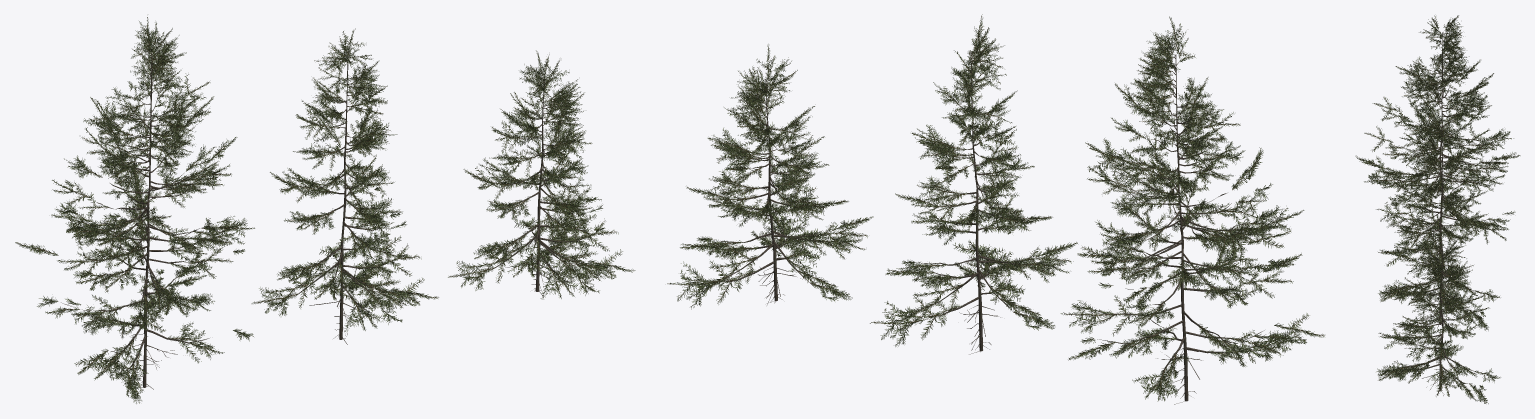
Rendered from fir_sapling_medium.glb.
The picture shows the model from 3 angles, left to right: view 1: azimuth 30°, elevation 25°; view 2: azimuth 150°, elevation 25°; view 3: azimuth 270°, elevation 25°; orthographic projection. The views are drawn at different scales.
Visible parts, largest first — view 1: fir_sapling_medium_a_LOD0; view 2: fir_sapling_medium_a_LOD0; view 3: fir_sapling_medium_a_LOD0.
Part boxes in pixels (left/top/right/bottom): fir_sapling_medium_a_LOD0: left=15, top=17, right=635, bottom=403; fir_sapling_medium_a_LOD0: left=667, top=14, right=1324, bottom=404; fir_sapling_medium_a_LOD0: left=1355, top=15, right=1520, bottom=403.
Size of the model in its own units: 14.79 by 8.89 by 5.27.
3 materials, 3 textured.
